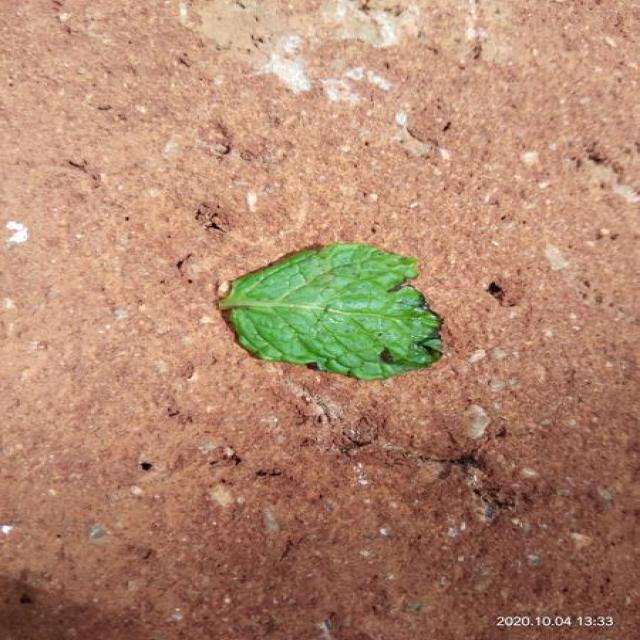mint: (218, 244, 442, 379)
